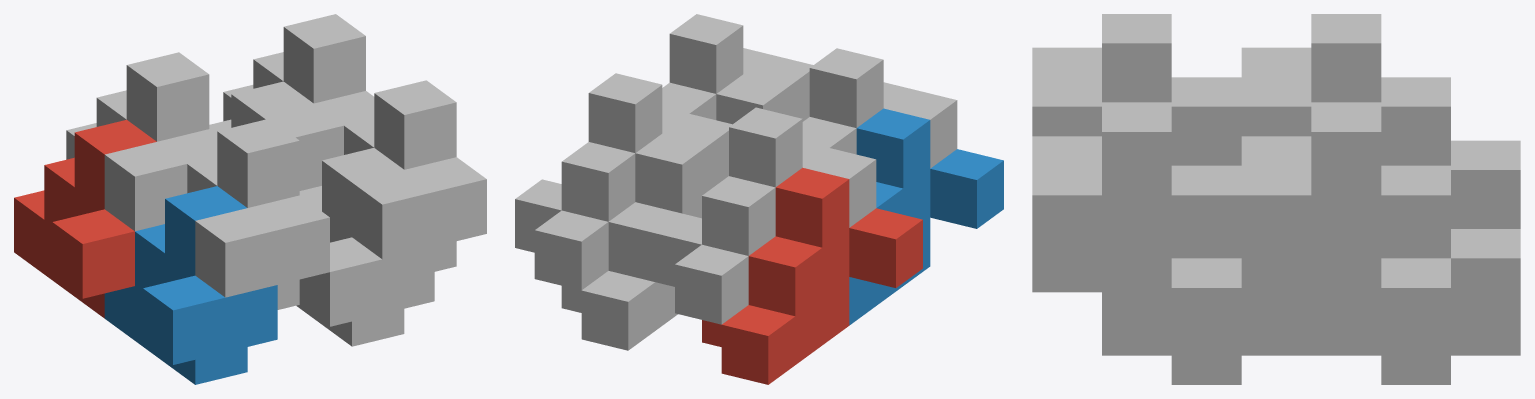
File: tiling.obj
The picture shows the model from 3 angles, left to right: view 1: azimuth 30°, elevation 25°; view 2: azimuth 150°, elevation 25°; view 3: azimuth 270°, elevation 25°; orthographic projection. The views are drawn at different scales.
Parts seen in each view (by area): view 1: copy_1_domain_4, copy_1_domain_8, copy_1_domain_2, copy_1_domain_1, copy_1_domain_3, copy_1_domain_6, copy_1_domain_7, copy_1_domain_5; view 2: copy_1_domain_1, copy_1_domain_3, copy_1_domain_7, copy_1_domain_5, copy_1_domain_2, copy_1_domain_4, copy_1_domain_8, copy_1_domain_6; view 3: copy_1_domain_7, copy_1_domain_8, copy_1_domain_3, copy_1_domain_4, copy_1_domain_6, copy_1_domain_5.
Boxes of the visible parts, x1=… form: copy_1_domain_4: x1=187, y1=118, x2=329, y2=309; copy_1_domain_8: x1=344, y1=80, x2=486, y2=271; copy_1_domain_2: x1=104, y1=186, x2=277, y2=384; copy_1_domain_1: x1=14, y1=119, x2=156, y2=318; copy_1_domain_3: x1=66, y1=52, x2=217, y2=231; copy_1_domain_6: x1=296, y1=148, x2=434, y2=346; copy_1_domain_7: x1=223, y1=14, x2=374, y2=190; copy_1_domain_5: x1=209, y1=81, x2=313, y2=134; copy_1_domain_1: x1=702, y1=167, x2=922, y2=384; copy_1_domain_3: x1=655, y1=107, x2=876, y2=324; copy_1_domain_7: x1=515, y1=73, x2=732, y2=290; copy_1_domain_5: x1=561, y1=133, x2=709, y2=350; copy_1_domain_2: x1=849, y1=108, x2=1003, y2=325; copy_1_domain_4: x1=802, y1=48, x2=957, y2=168; copy_1_domain_8: x1=662, y1=14, x2=813, y2=121; copy_1_domain_6: x1=716, y1=74, x2=789, y2=124; copy_1_domain_7: x1=1241, y1=102, x2=1520, y2=351; copy_1_domain_8: x1=1032, y1=102, x2=1311, y2=351; copy_1_domain_3: x1=1241, y1=14, x2=1520, y2=228; copy_1_domain_4: x1=1032, y1=14, x2=1241, y2=165; copy_1_domain_6: x1=1032, y1=258, x2=1311, y2=384; copy_1_domain_5: x1=1311, y1=321, x2=1520, y2=384.
Size of the model in its own units: 7 by 4 by 7.
